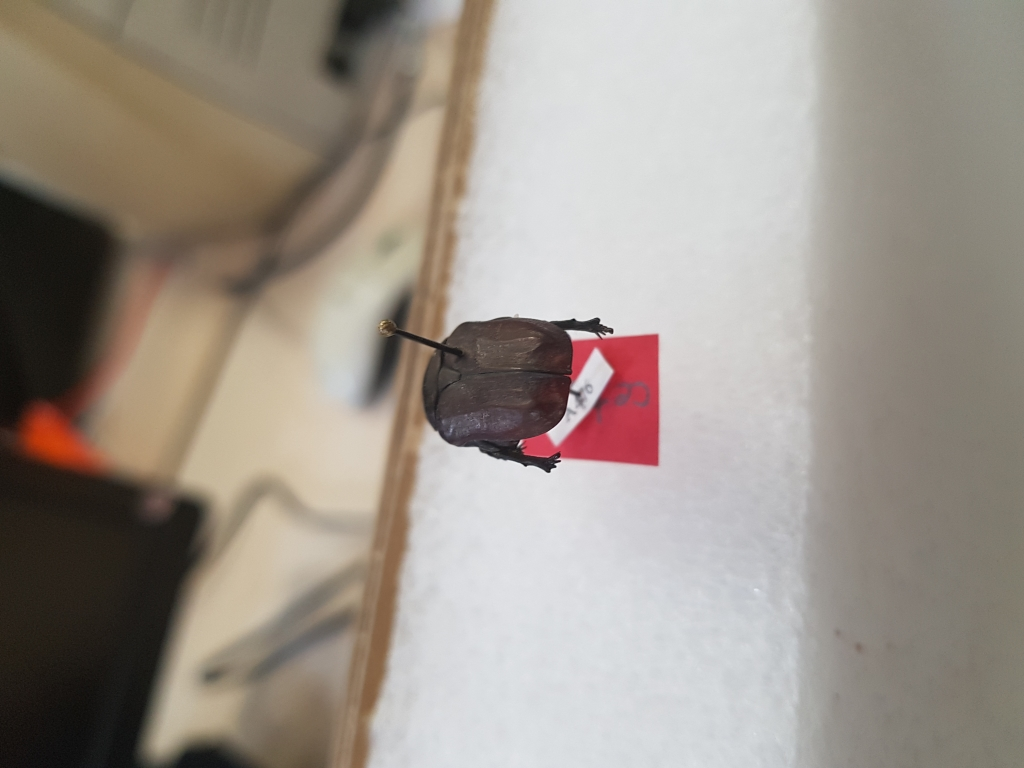Protaetia_asiatica: (413, 307, 623, 473)
